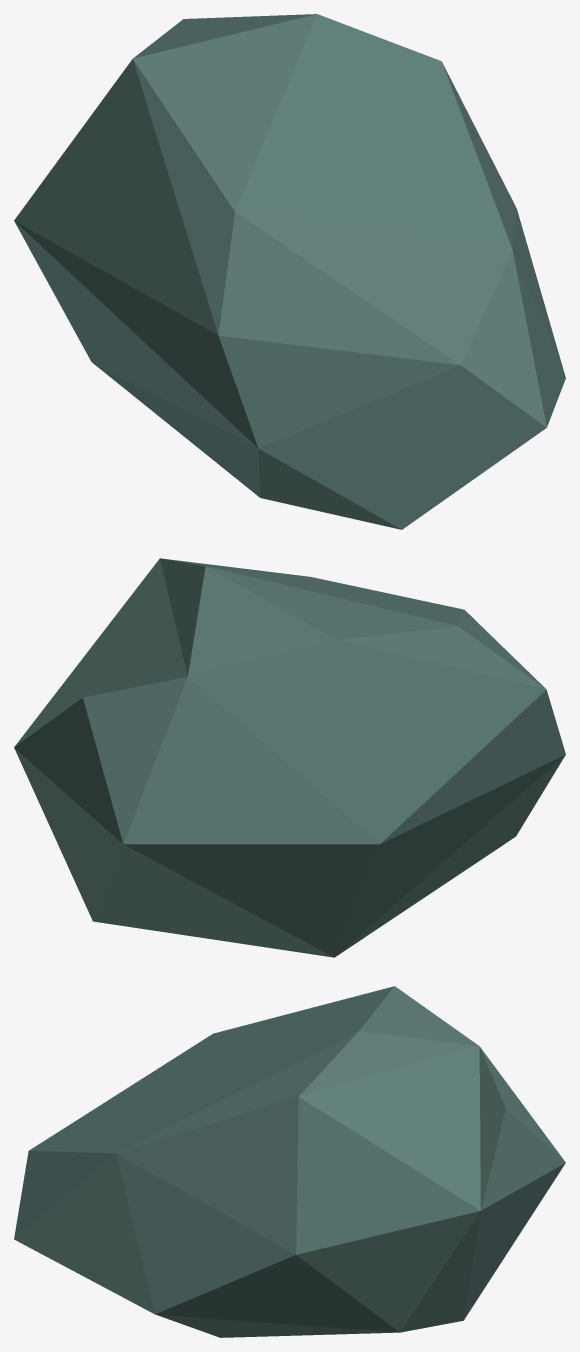
The picture shows the model from 3 angles, top to bottom: view 1: azimuth 30°, elevation 25°; view 2: azimuth 150°, elevation 25°; view 3: azimuth 270°, elevation 25°; orthographic projection. The views are drawn at different scales.
Parts seen in each view (by area): view 1: 石头2; view 2: 石头2; view 3: 石头2.
Part boxes in pixels (box(x1,y1,x2,y2)): 石头2: box(14, 14, 565, 529); 石头2: box(14, 558, 565, 957); 石头2: box(14, 986, 565, 1337).
Bounding box in the file's own units: 40.23 × 32.9 × 60.21.
